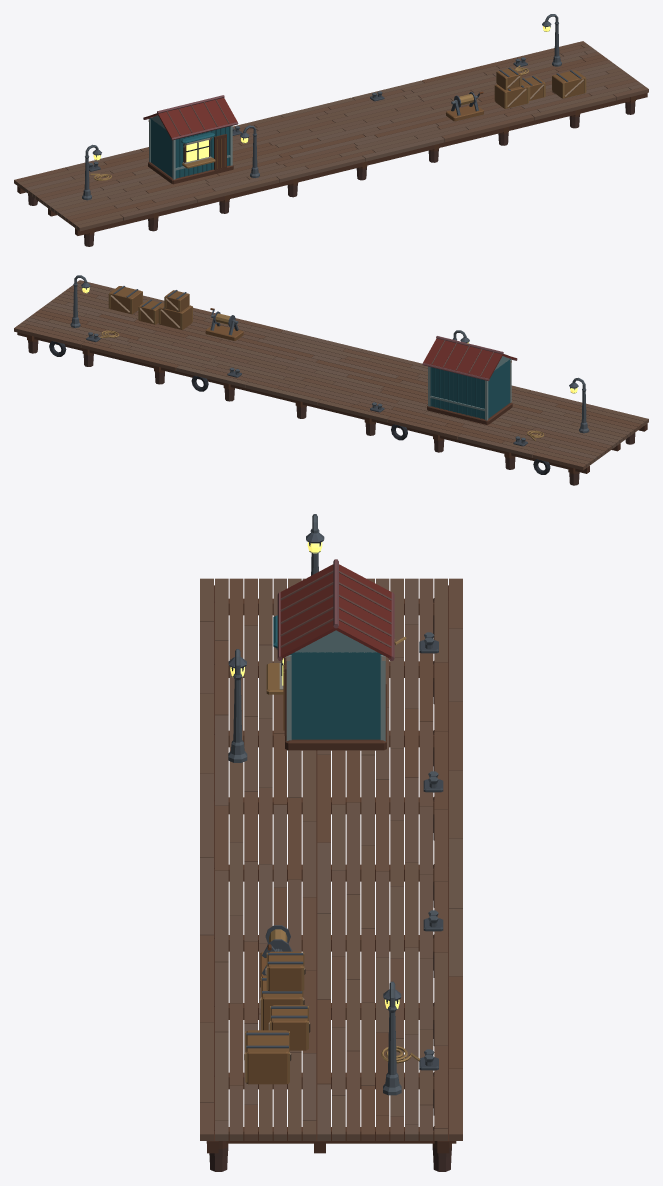
The model's file is dock_start.glb.
3 views of the same model, one above another, from view 1: azimuth 30°, elevation 25°; view 2: azimuth 150°, elevation 25°; view 3: azimuth 270°, elevation 25° (orthographic). The views are drawn at different scales.
Parts seen in each view (by area): view 1: Quayside_PaintWoodStone_forms, Quayside_Hardware_forms, Quayside_TidalPolish_forms, M_WindowGlow_forms; view 2: Quayside_PaintWoodStone_forms, Quayside_Hardware_forms, Quayside_TidalPolish_forms; view 3: Quayside_PaintWoodStone_forms, Quayside_Hardware_forms, Quayside_TidalPolish_forms.
Part boxes in pixels (x1,y1,x2,y2): Quayside_PaintWoodStone_forms: (14, 41, 648, 235); Quayside_Hardware_forms: (82, 14, 581, 200); Quayside_TidalPolish_forms: (28, 102, 635, 246); M_WindowGlow_forms: (186, 140, 208, 161); Quayside_PaintWoodStone_forms: (14, 280, 648, 474); Quayside_Hardware_forms: (70, 275, 589, 446); Quayside_TidalPolish_forms: (28, 340, 635, 485); Quayside_PaintWoodStone_forms: (200, 564, 462, 1153); Quayside_Hardware_forms: (228, 514, 443, 1095); Quayside_TidalPolish_forms: (209, 619, 451, 1171).
Size of the model in its own units: 40 by 5.92 by 8.
